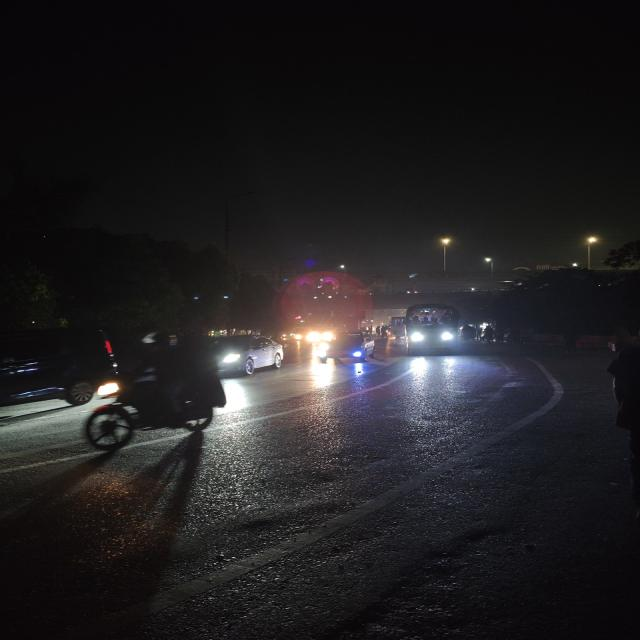bus: (403, 304, 464, 356)
car: (0, 322, 132, 458), (205, 332, 290, 380), (312, 330, 379, 366)
motorcycle: (83, 360, 229, 450)
pedestrian: (461, 323, 480, 345), (481, 322, 497, 346)
